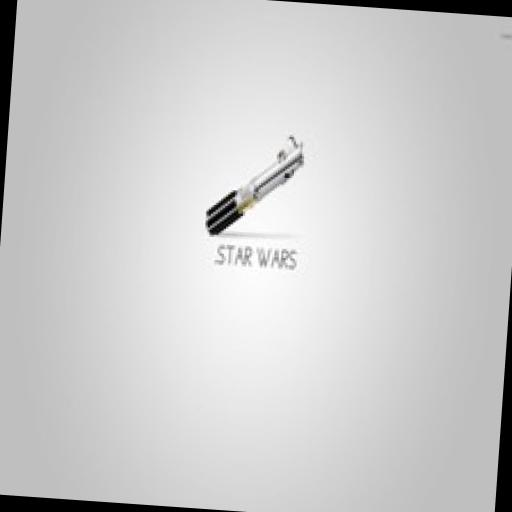lightsaber: (198, 123, 312, 242)
